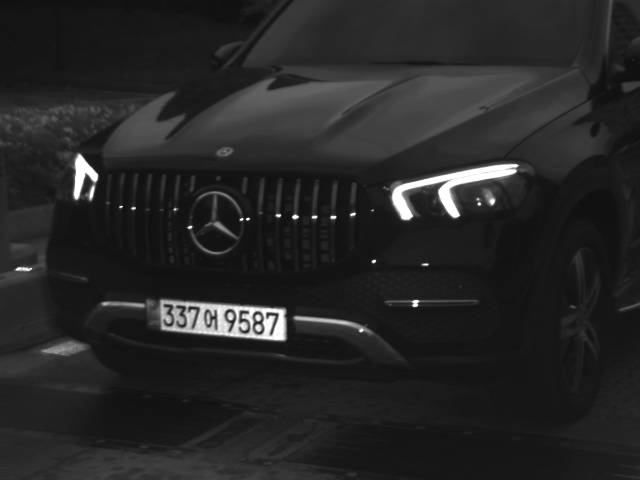car: (49, 1, 639, 426)
plate: (141, 298, 289, 342)
